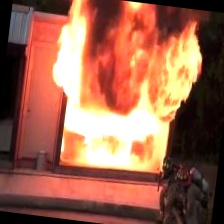fire: (26, 0, 211, 193)
